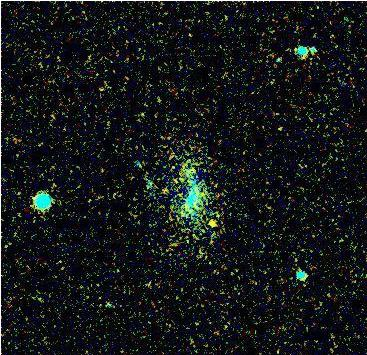star: (195, 207, 225, 237)
